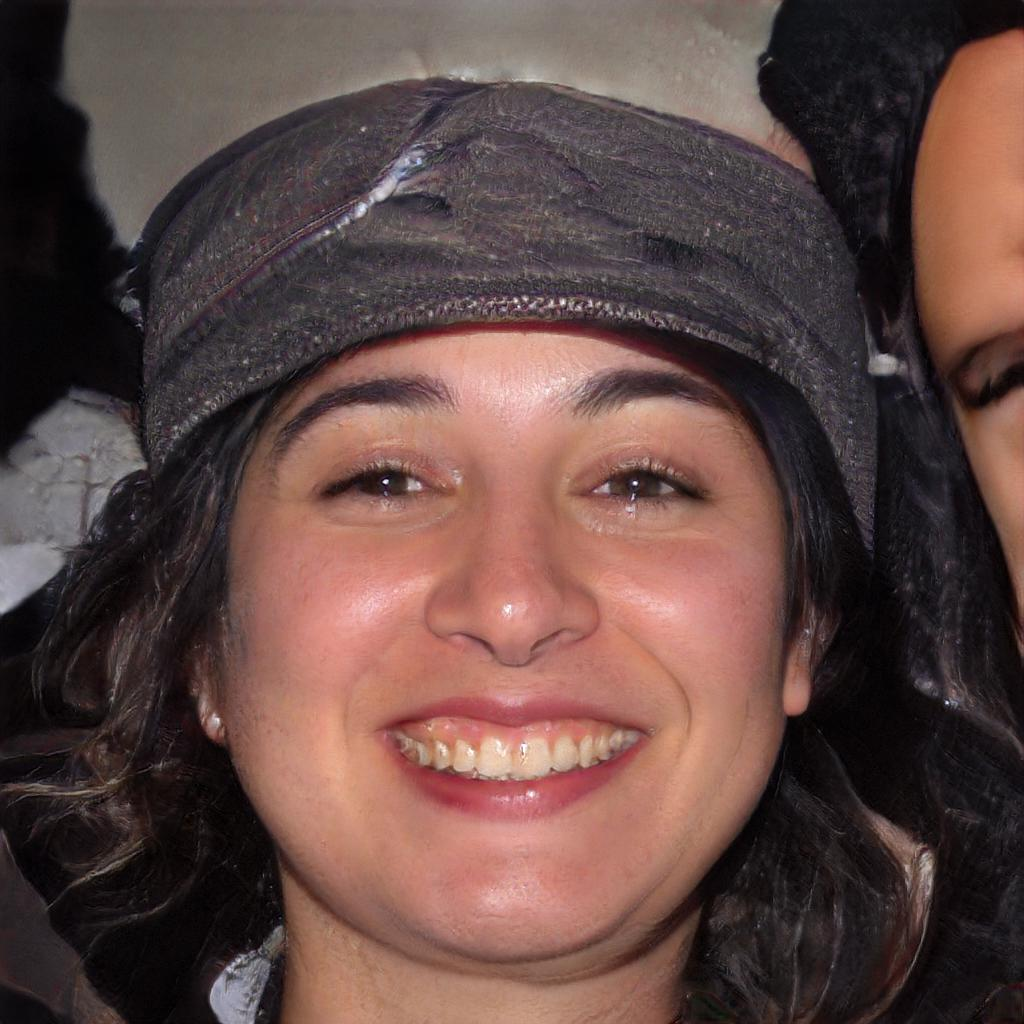face: (227, 327, 788, 961)
